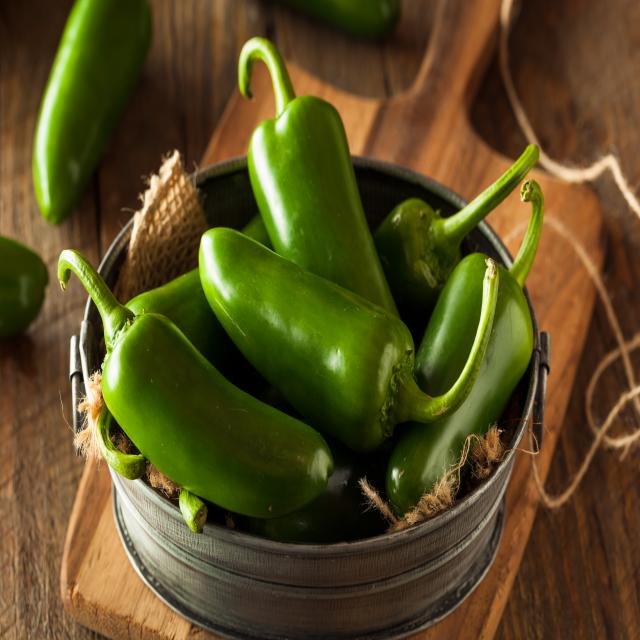aji: (80, 258, 333, 524), (195, 212, 443, 418), (233, 47, 398, 326)
